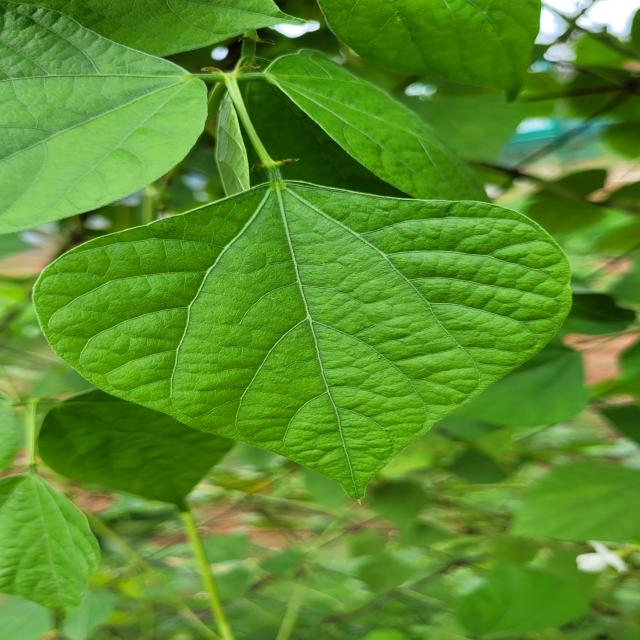Dolicos bean_healthy: (37, 183, 578, 502)
